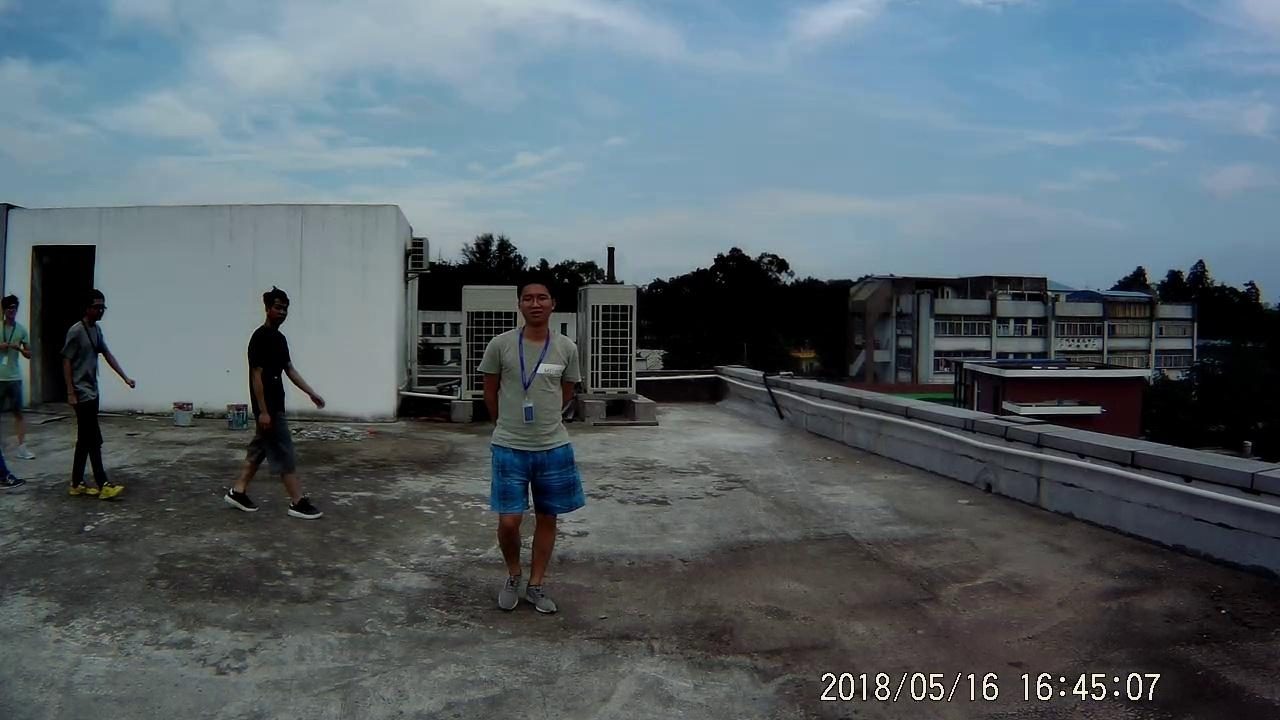NoVest: (481, 331, 582, 449)
